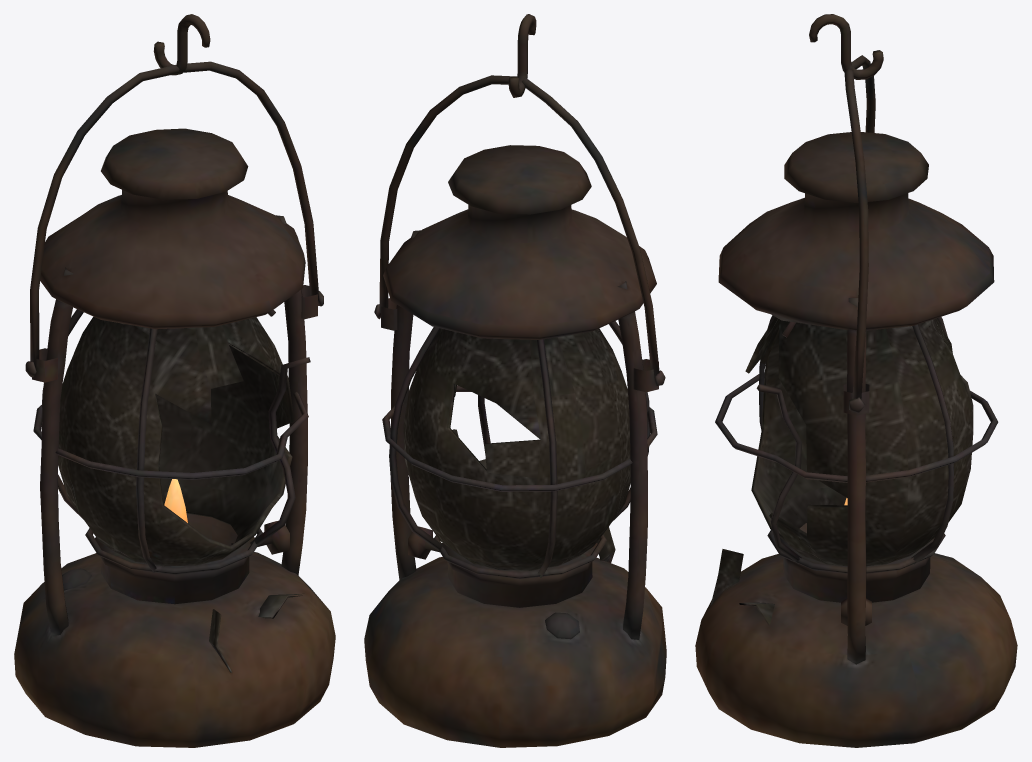
Rendered from b4p_mine_lantern.glb.
3 renders of one model, left to right at view 1: azimuth 30°, elevation 25°; view 2: azimuth 150°, elevation 25°; view 3: azimuth 270°, elevation 25°, orthographic. The views are drawn at different scales.
Visible parts, largest first — view 1: b4p_mine_lantern; view 2: b4p_mine_lantern; view 3: b4p_mine_lantern.
Boxes of the visible parts, x1,y1,x2,y2 form: b4p_mine_lantern: (14,14,335,747); b4p_mine_lantern: (364,14,666,747); b4p_mine_lantern: (695,14,1017,747).
Bounding box in the file's own units: 0.171 × 0.3781 × 0.1622.
Materials: 1 (1 with a texture image).
